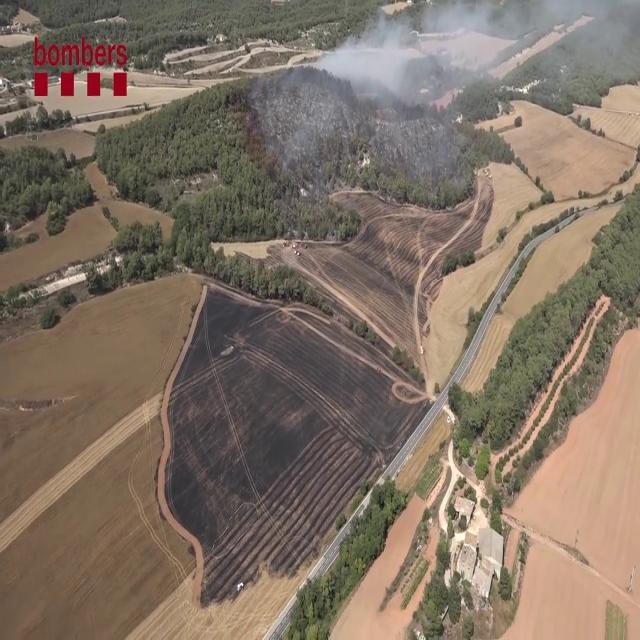Smoke: (329, 0, 636, 127)
